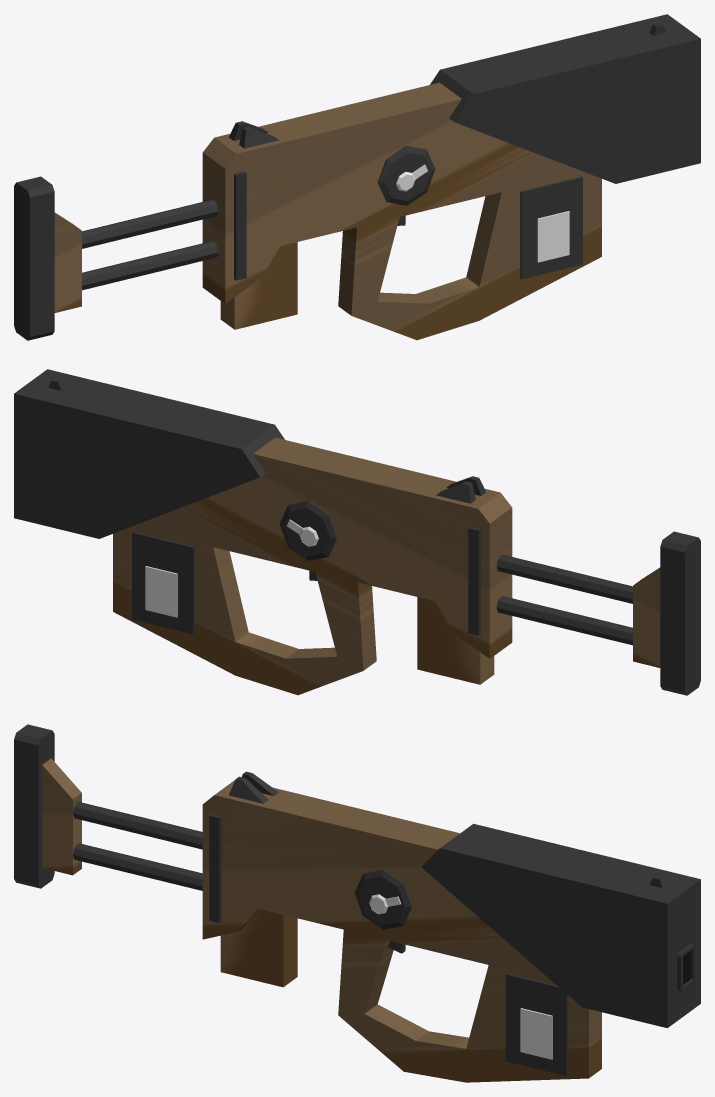
The model's file is Rifle_B_V3.FBX.
The picture shows the model from 3 angles, top to bottom: view 1: azimuth 30°, elevation 25°; view 2: azimuth 150°, elevation 25°; view 3: azimuth 330°, elevation 25°; orthographic projection.
Visible parts, largest first — view 1: Rifle_B_V3, Magazine; view 2: Rifle_B_V3, Magazine; view 3: Rifle_B_V3, Magazine.
Boxes of the visible parts, x1,y1,x2,y2 form: Rifle_B_V3: [14, 14, 700, 340]; Magazine: [220, 242, 297, 329]; Rifle_B_V3: [14, 369, 700, 695]; Magazine: [417, 597, 494, 684]; Rifle_B_V3: [14, 724, 700, 1082]; Magazine: [220, 909, 297, 987].
Bounding box in the file's own units: 361 × 129 × 31.4.
